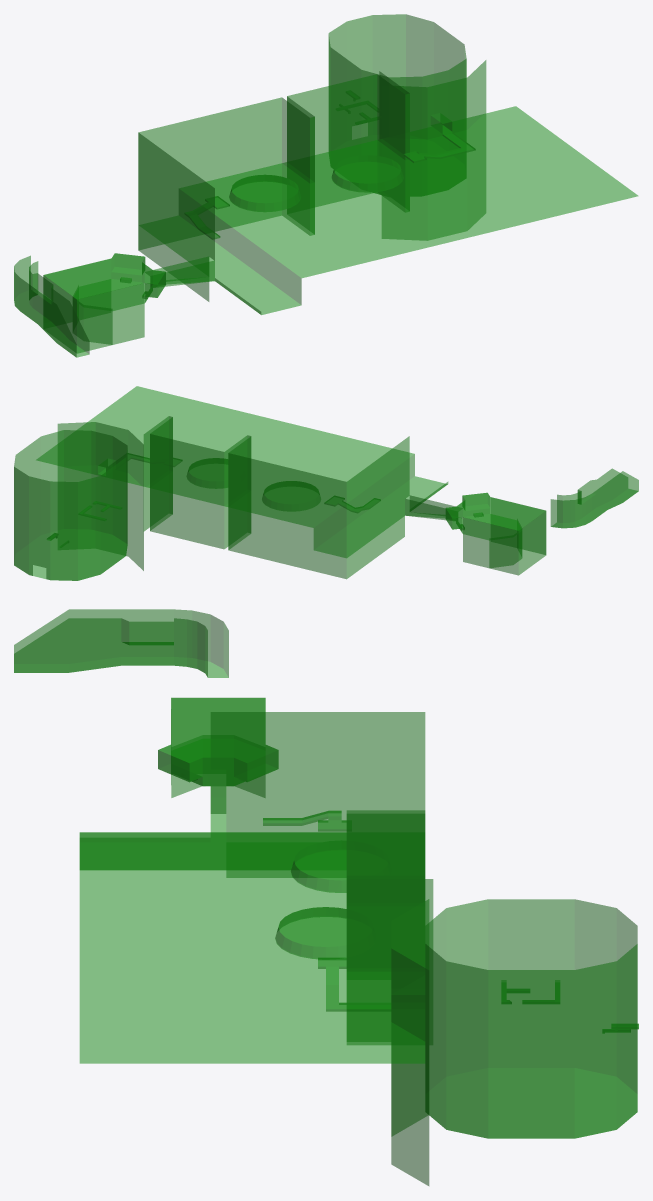
The model's file is camera_hit.obj.
3 renders of one model, top to bottom at view 1: azimuth 30°, elevation 25°; view 2: azimuth 150°, elevation 25°; view 3: azimuth 270°, elevation 25°, orthographic. The views are drawn at different scales.
Size of the model in its own units: 363 by 99 by 238.
